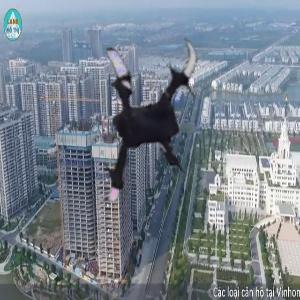drone: (43, 19, 230, 206)
